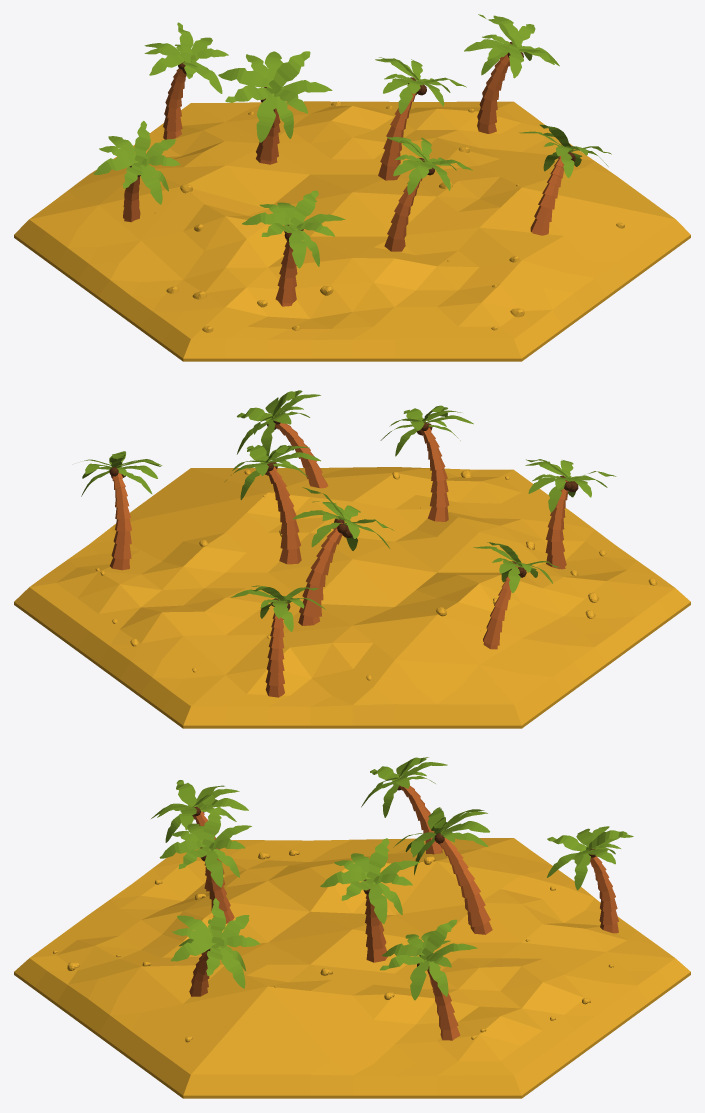
The model's file is beach.glb.
3 renders of one model, top to bottom at view 1: azimuth 30°, elevation 25°; view 2: azimuth 150°, elevation 25°; view 3: azimuth 270°, elevation 25°, orthographic.
Visible parts, largest first — view 1: land, big_details, small_details; view 2: land, big_details, small_details; view 3: land, big_details, small_details.
Part boxes in pixels (x1,y1,x2,y2): land: [14, 101, 690, 361]; big_details: [93, 14, 611, 306]; small_details: [129, 42, 624, 332]; land: [14, 467, 690, 728]; big_details: [81, 390, 616, 697]; small_details: [95, 415, 657, 680]; land: [14, 838, 690, 1098]; big_details: [151, 757, 633, 1040]; small_details: [53, 784, 613, 1042].
Size of the model in its own units: 1.73 by 0.5135 by 2.
